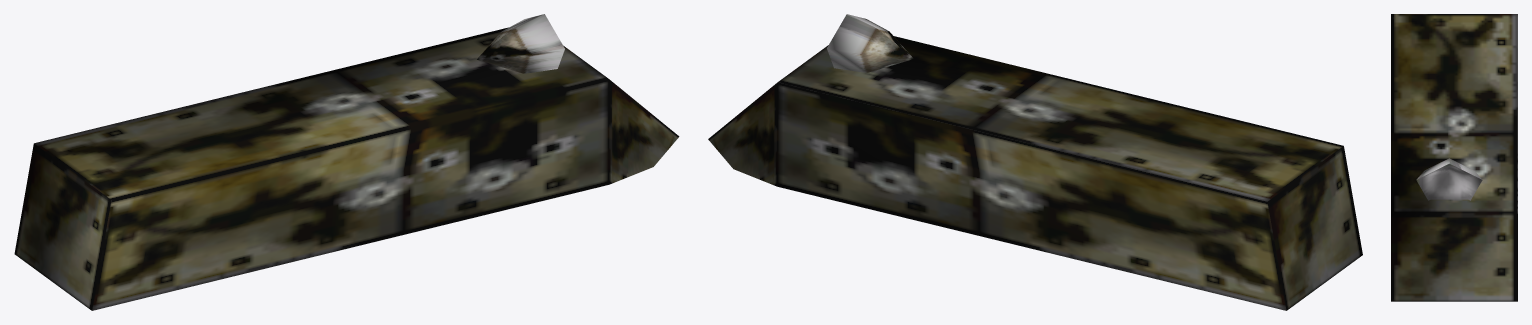
Rendered from USA - Ground Vehicles - Sentry Drone - Damage State 3 - AVSentry_d3.glb.
The picture shows the model from 3 angles, left to right: view 1: azimuth 30°, elevation 25°; view 2: azimuth 150°, elevation 25°; view 3: azimuth 270°, elevation 25°; orthographic projection. The views are drawn at different scales.
Visible parts, largest first — view 1: AVSENTRY_D3; view 2: AVSENTRY_D3; view 3: AVSENTRY_D3.
Boxes of the visible parts, box(x1,y1,x2,y2) form: AVSENTRY_D3: box(14, 14, 679, 310); AVSENTRY_D3: box(708, 14, 1362, 310); AVSENTRY_D3: box(1391, 14, 1517, 301).
Size of the model in its own units: 17.9 by 4.42 by 4.1.
Materials: 1 (1 with a texture image).
